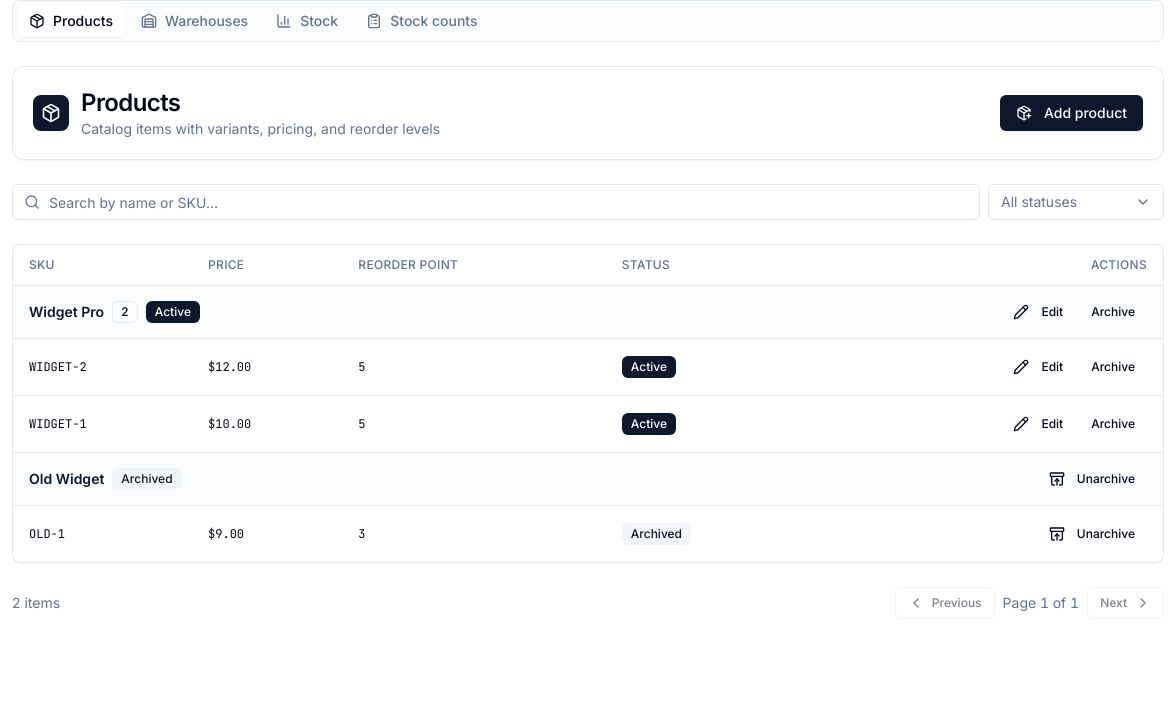
Test: ProductsView — grouped products table › editing a specific variant prefills the form with THAT variant (not the primary)
Click the button "Edit" in the row of "WIDGET-1". click: [1038, 424]
box: [1001,408,1075,440]
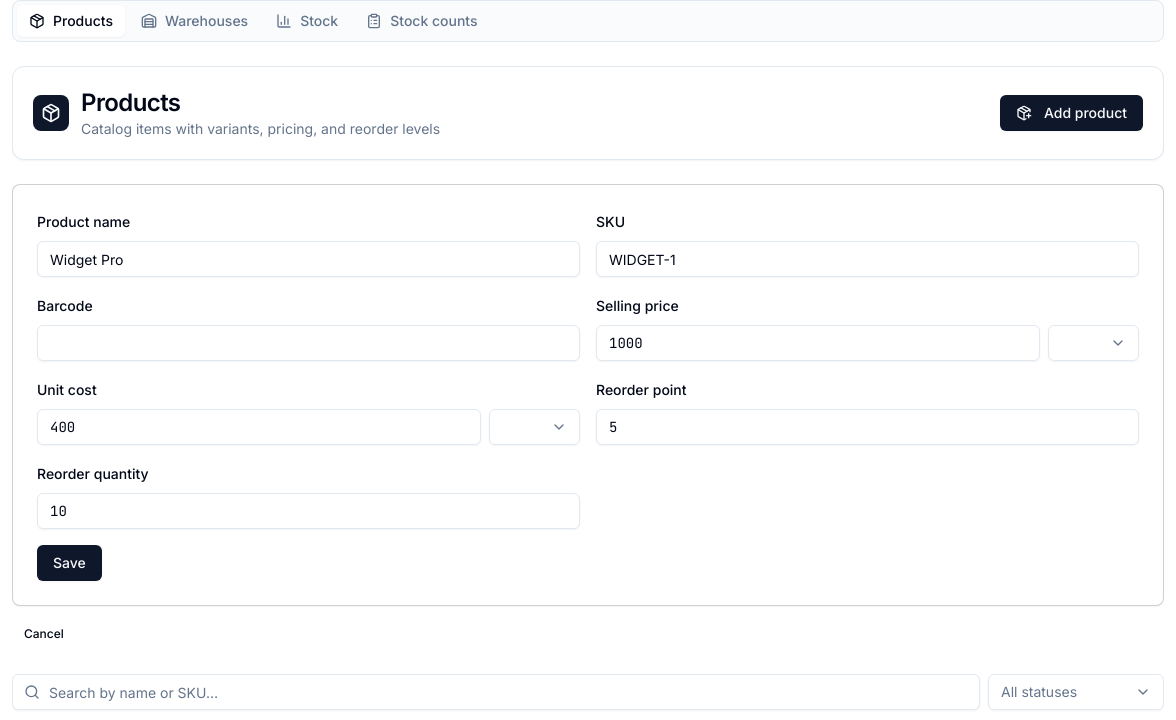
Result: the field labelled "SKU" holds "WIDGET-1" at [596,241,1139,277]
Saving renames the product and edits THAT variant (INV-10 kept intact).
Click the button "Save". click: [69, 563]
box: [37,545,102,581]
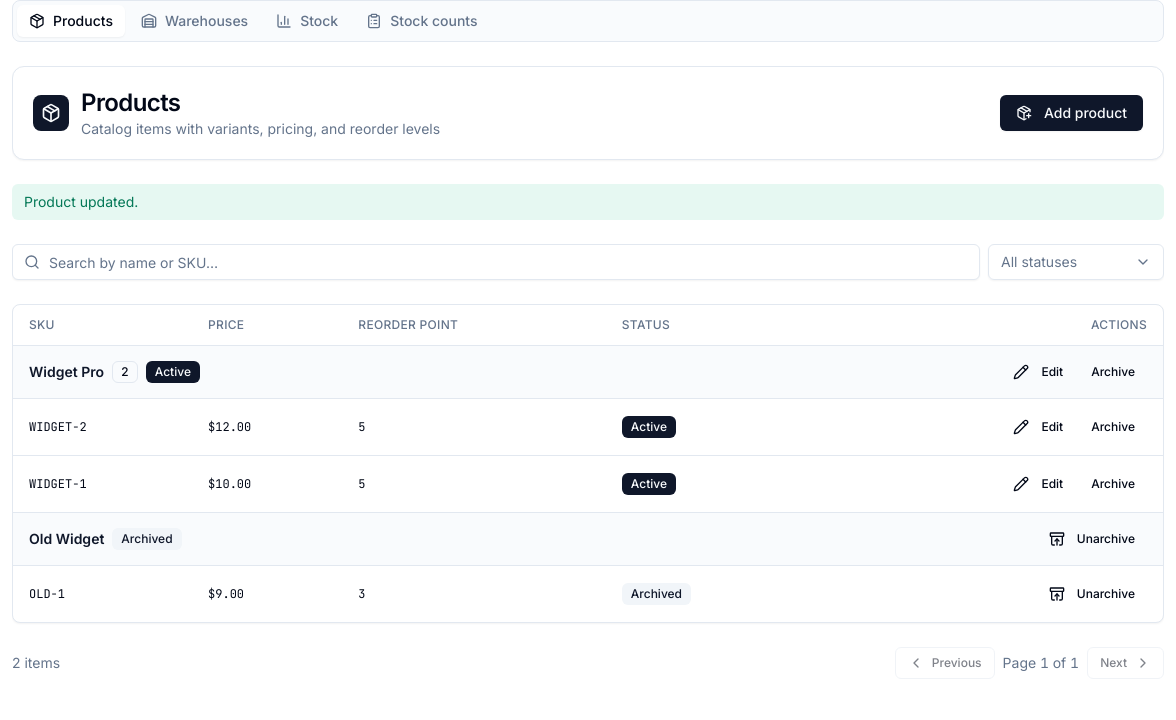
Result: the text "Product updated." is shown at [12,184,1164,220]
